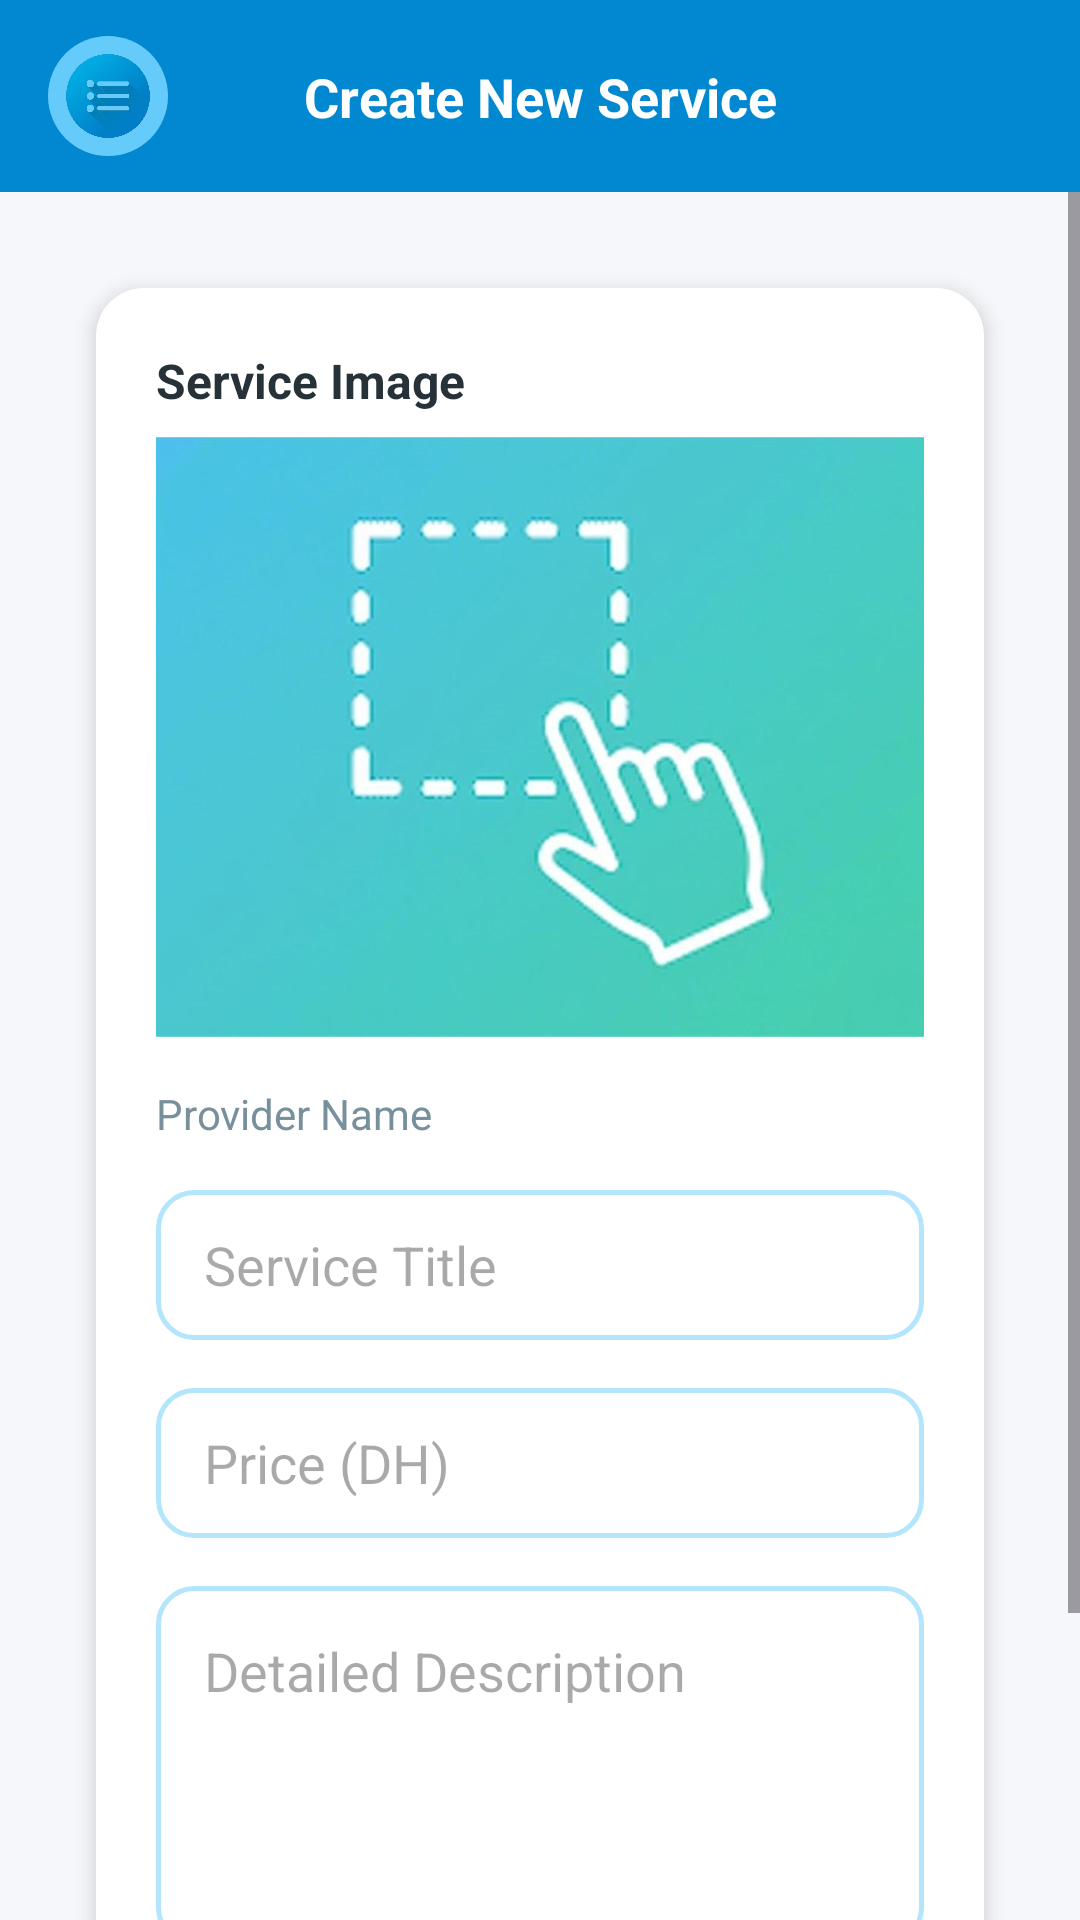

Icon click points for this 1080px x 1920px phone screenshot, format [x,y]:
Menu: [108,96]
